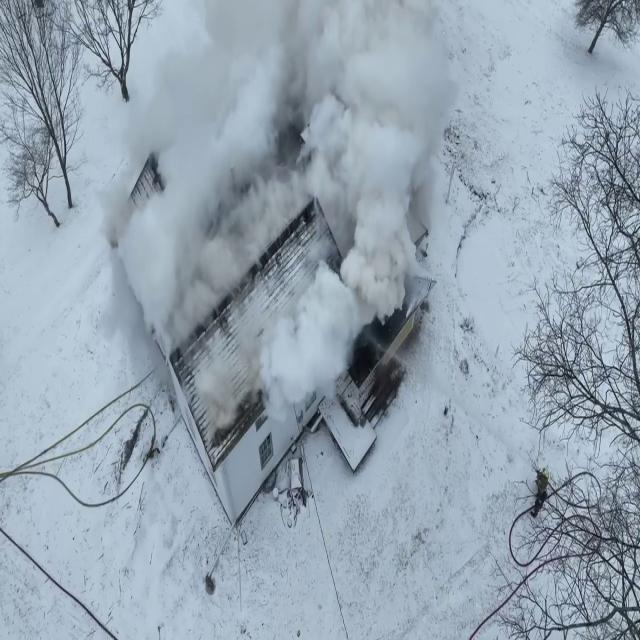Smoke: (30, 0, 475, 429)
